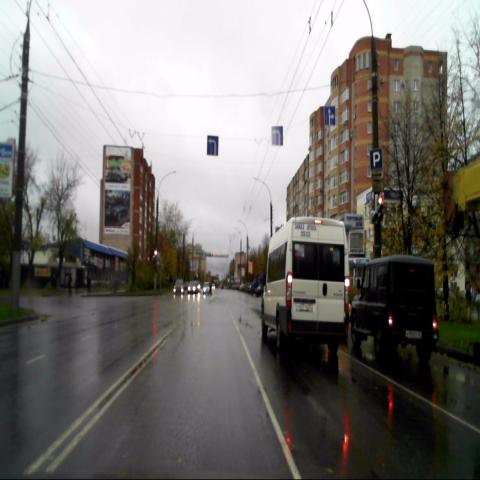5_15_2: (271, 126, 283, 146)
6_4: (370, 147, 384, 169)
